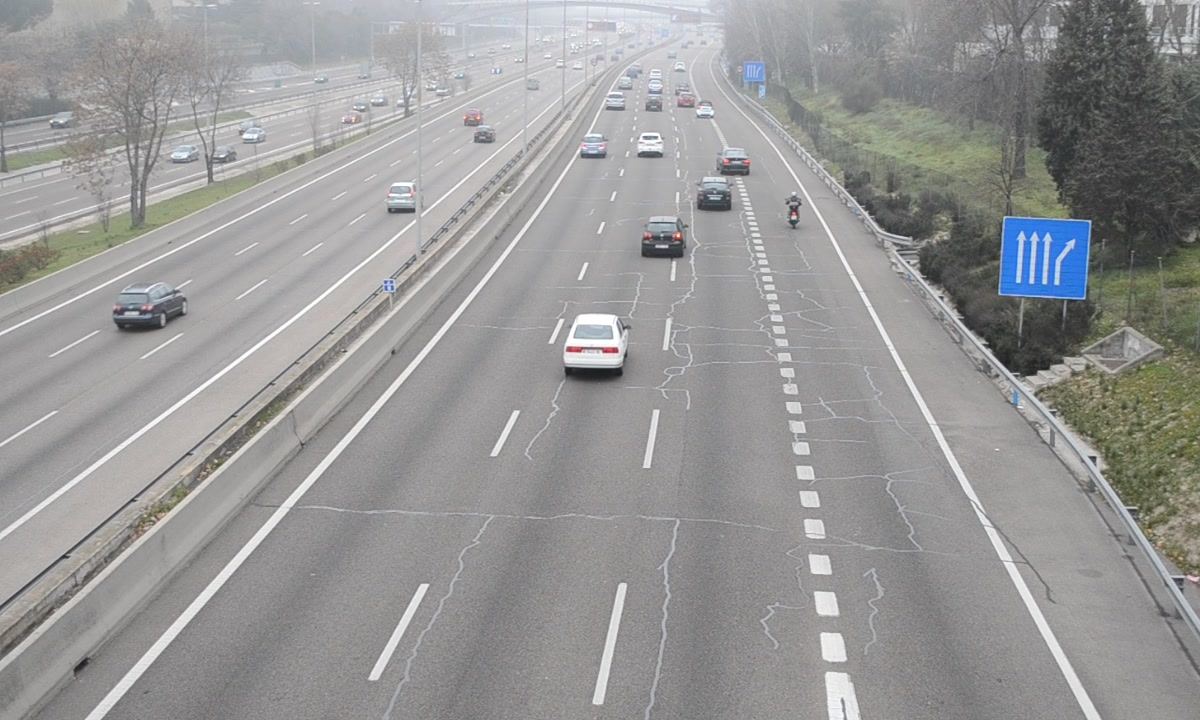car: (563, 314, 629, 370), (640, 217, 687, 254), (696, 176, 732, 211), (718, 147, 752, 176), (636, 131, 666, 158), (579, 134, 607, 159)
motorcycle: (786, 192, 805, 232)
